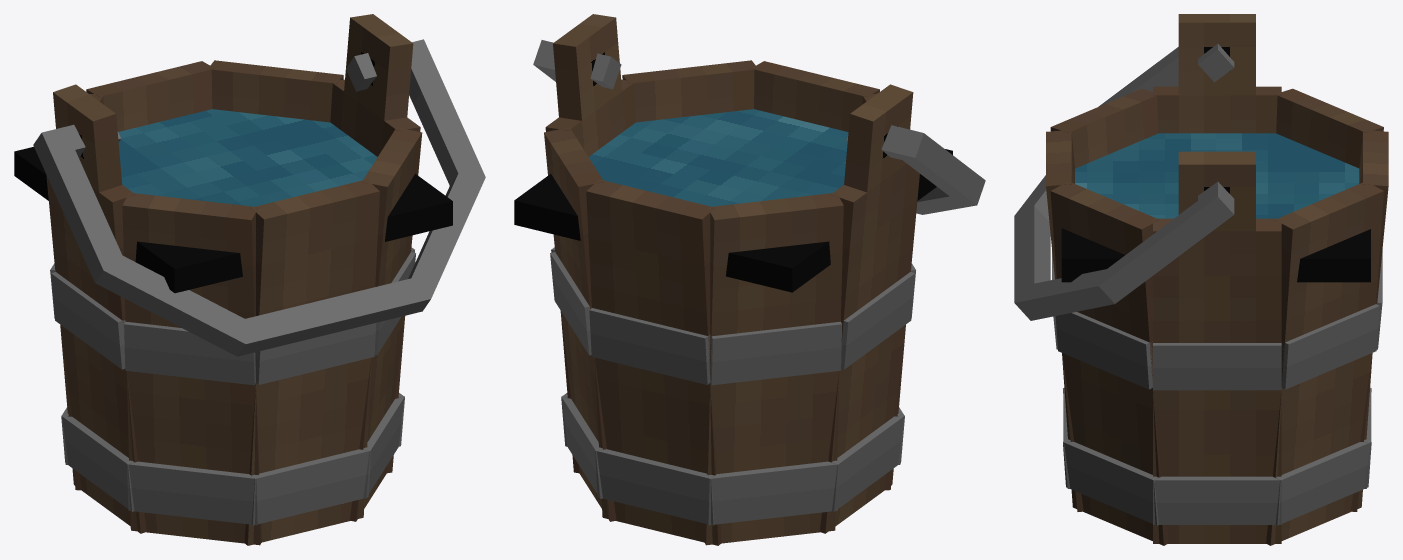
Rendered from water_bucket.obj.
3 views of the same model, side by side, from view 1: azimuth 30°, elevation 25°; view 2: azimuth 150°, elevation 25°; view 3: azimuth 270°, elevation 25° (orthographic). The views are drawn at different scales.
Visible parts, largest first — view 1: water, side1, side2, Ring2, side3, Ring1, side8, Ring3, handle1, side6, handle2, handle4 (+9 smaller); view 2: side5, side4, water, side3, Ring4, Ring5, side6, Ring3, side8, side1, side7bump, side3bump (+7 smaller); view 3: side7, side6, water, side8, Ring7, Ring6, Ring8, side3bump, side3, handle5, side2, side4 (+10 smaller).
Part boxes in pixels (x1,y1,x2,y2): water: (14,109,452,293); side1: (244,179,379,545); side2: (122,192,261,545); Ring2: (124,321,258,525); side3: (47,178,146,533); Ring1: (249,323,376,525); side8: (349,127,422,521); Ring3: (51,272,134,511); handle1: (235,278,430,356); side6: (208,60,343,122); handle2: (95,250,254,356); handle4: (33,127,125,282); side5: (586,179,721,545); side4: (704,192,843,545); water: (514,109,952,292); side3: (819,163,918,533); Ring4: (708,321,842,525); Ring5: (589,308,714,525); side6: (544,127,616,521); Ring3: (828,272,914,511); side8: (622,60,758,122); side1: (751,61,879,131); side7bump: (553,14,622,120); side3bump: (844,84,913,192); side7: (1153,218,1281,543); side6: (1266,181,1383,545); water: (1061,133,1370,282); side8: (1050,181,1168,545); Ring7: (1153,343,1281,524); Ring6: (1275,304,1379,525); Ring8: (1055,312,1159,525); side3bump: (1178,14,1255,95); side3: (1153,86,1281,133); handle5: (1098,186,1234,303); side2: (1050,88,1159,168); side4: (1275,88,1383,168).
Size of the model in its own units: 1.03 by 1.07 by 0.9073.
